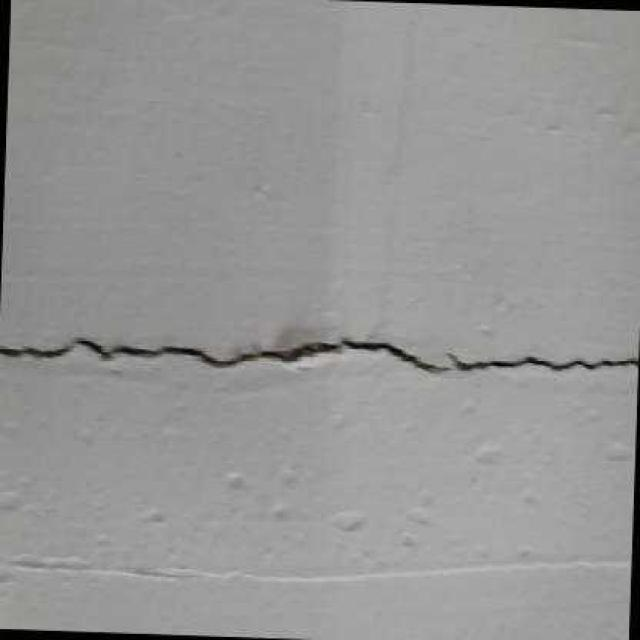D00: (0, 336, 446, 375), (446, 352, 639, 375)
